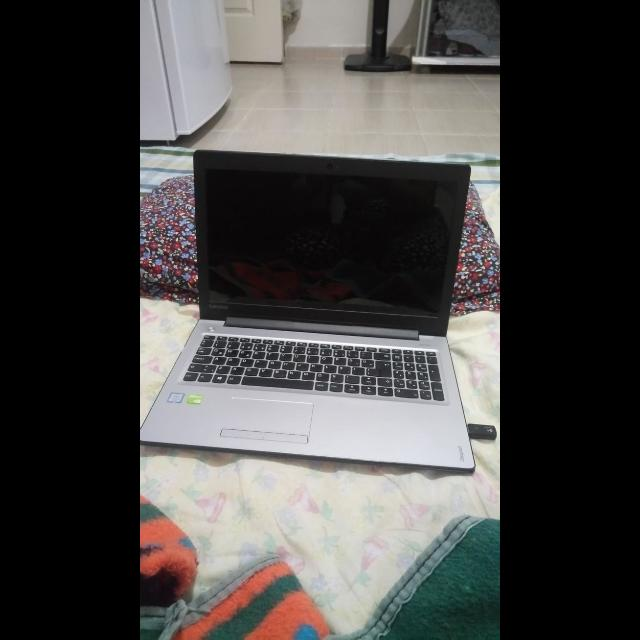laptop: (147, 143, 481, 491)
